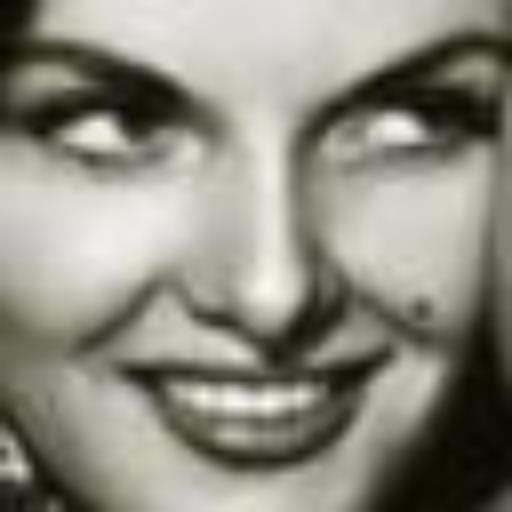left_eye: (325, 75, 478, 174)
left_lip_corner: (349, 340, 423, 399)
right_eye: (39, 84, 172, 161)
right_lip_corner: (107, 352, 172, 400)
